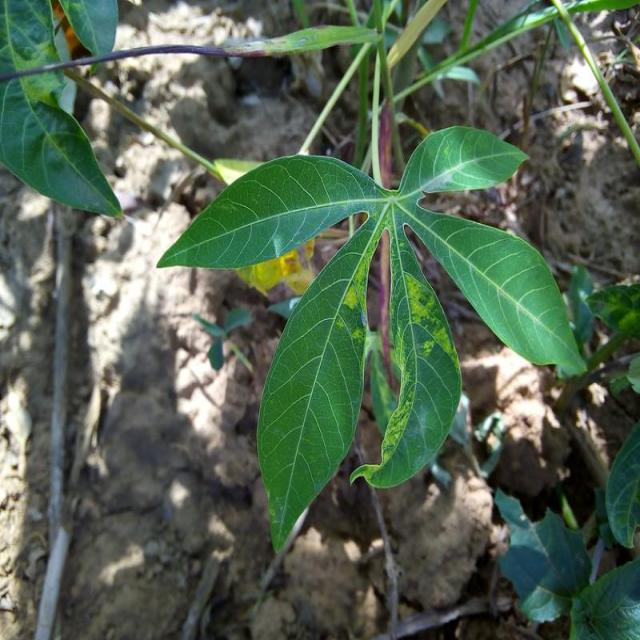cassava leaf: (156, 122, 586, 552), (254, 208, 386, 553), (0, 0, 123, 220)
